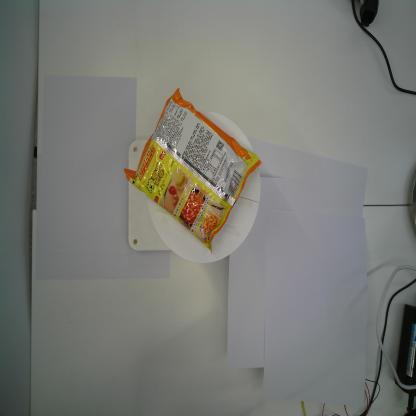Instant Noodles: (123, 86, 263, 256)
